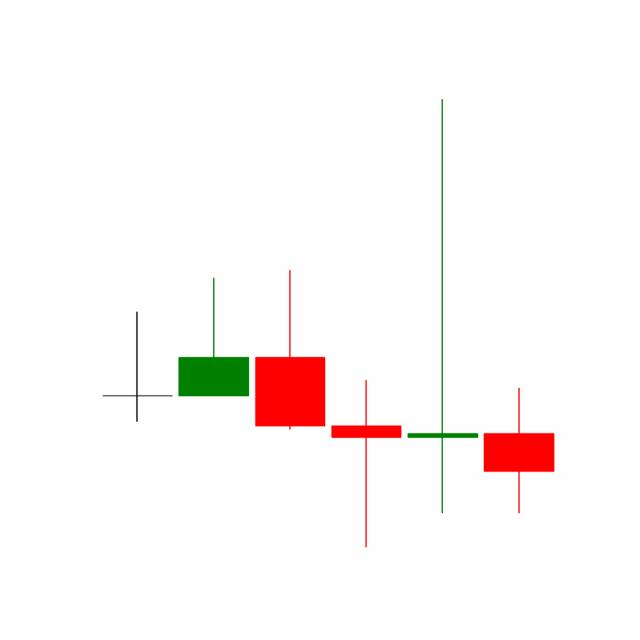Spinning Top: (403, 94, 481, 517)
